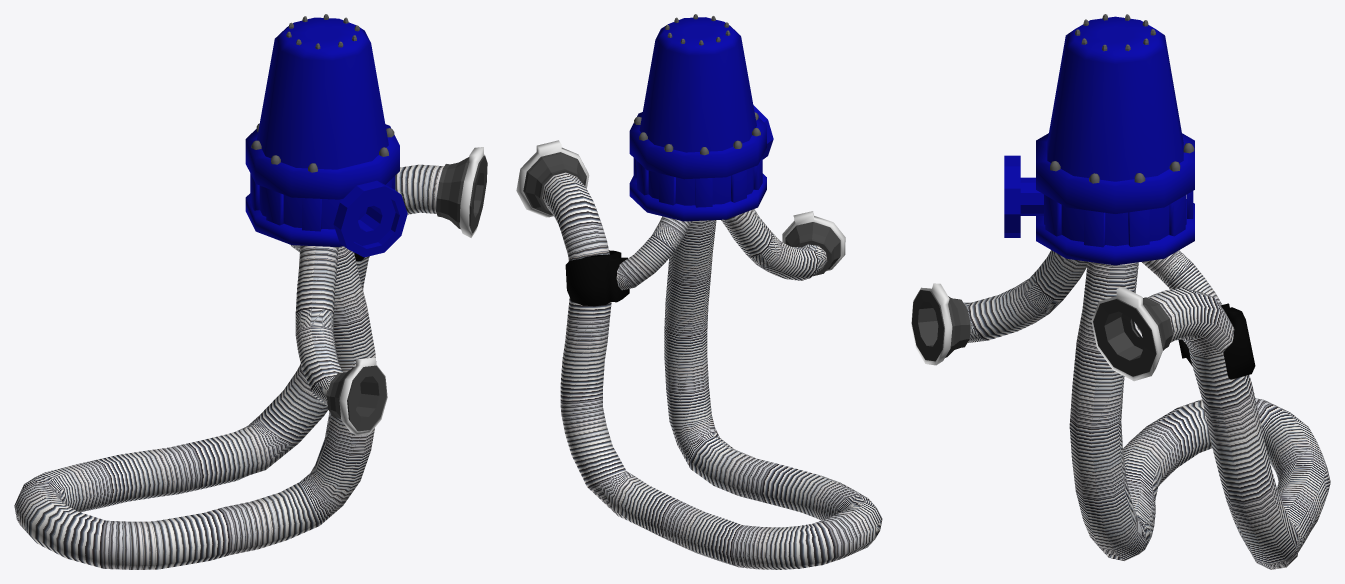
The model's file is PumpBot.fbx.
The picture shows the model from 3 angles, left to right: view 1: azimuth 30°, elevation 25°; view 2: azimuth 150°, elevation 25°; view 3: azimuth 270°, elevation 25°; orthographic projection. The views are drawn at different scales.
Visible parts, largest first — view 1: polySurface1, pCylinder1, pCylinder13, pCylinder2, pCylinder4, polySurface6, polySurface8, pCylinder3, polySurface7, polySurface5, pSphere21, pCube5 (+1 smaller); view 2: polySurface1, pCylinder1, pCylinder2, pCylinder13, pCube10, pCylinder14, pCylinder3, polySurface8, polySurface6, polySurface7, polySurface5, pSphere21 (+3 smaller); view 3: polySurface1, pCylinder1, pCylinder2, pCylinder13, polySurface8, pCylinder3, polySurface6, pCylinder4, pCube10, pCylinder14, polySurface7, polySurface5 (+5 smaller).
Part boxes in pixels (left/top/right/bottom): polySurface1: left=14, top=164, right=444, bottom=569; pCylinder1: left=257, top=17, right=388, bottom=229; pCylinder13: left=295, top=245, right=342, bottom=405; pCylinder2: left=245, top=124, right=399, bottom=199; pCylinder4: left=333, top=180, right=407, bottom=257; polySurface6: left=327, top=365, right=386, bottom=431; polySurface8: left=436, top=155, right=487, bottom=233; pCylinder3: left=245, top=193, right=342, bottom=247; polySurface7: left=459, top=147, right=484, bottom=237; polySurface5: left=339, top=357, right=387, bottom=435; pSphere21: left=251, top=14, right=394, bottom=172; pCube5: left=302, top=198, right=321, bottom=231; polySurface1: left=542, top=172, right=882, bottom=569; pCylinder1: left=636, top=17, right=756, bottom=205; pCylinder2: left=629, top=112, right=766, bottom=179; pCylinder13: left=721, top=209, right=827, bottom=280; pCube10: left=565, top=250, right=629, bottom=306; pCylinder14: left=616, top=216, right=691, bottom=290; pCylinder3: left=629, top=173, right=766, bottom=221; polySurface8: left=523, top=152, right=586, bottom=214; polySurface6: left=785, top=222, right=840, bottom=276; polySurface7: left=516, top=140, right=589, bottom=217; polySurface5: left=782, top=211, right=845, bottom=271; pSphere21: left=634, top=14, right=760, bottom=155; polySurface1: left=1069, top=261, right=1330, bottom=569; pCylinder1: left=1044, top=16, right=1186, bottom=246; pCylinder2: left=1036, top=133, right=1194, bottom=213; pCylinder13: left=963, top=250, right=1087, bottom=342; polySurface8: left=1093, top=297, right=1173, bottom=376; pCylinder3: left=1036, top=199, right=1194, bottom=265; polySurface6: left=911, top=290, right=970, bottom=361; pCylinder4: left=1004, top=155, right=1043, bottom=237; pCube10: left=1178, top=303, right=1255, bottom=379; pCylinder14: left=1142, top=250, right=1222, bottom=305; polySurface7: left=1091, top=287, right=1162, bottom=381; polySurface5: left=911, top=283, right=952, bottom=365.
Bounding box in the file's own units: 2.91 × 3.28 × 2.28.
